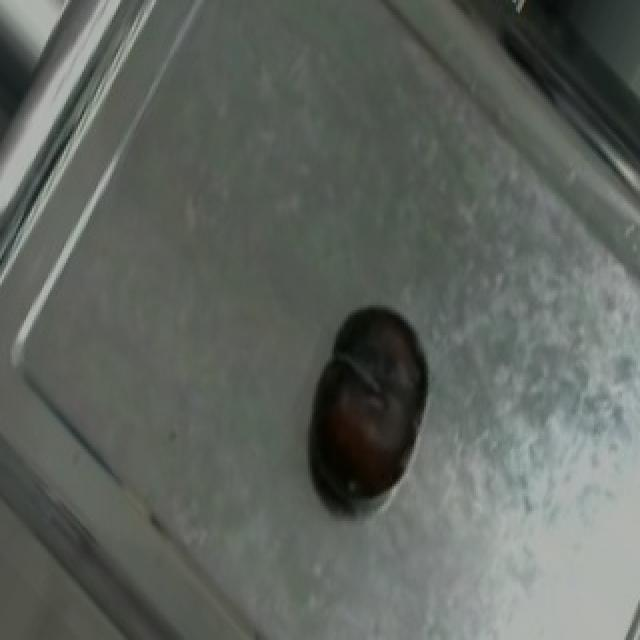Fruit: (294, 283, 446, 506)
